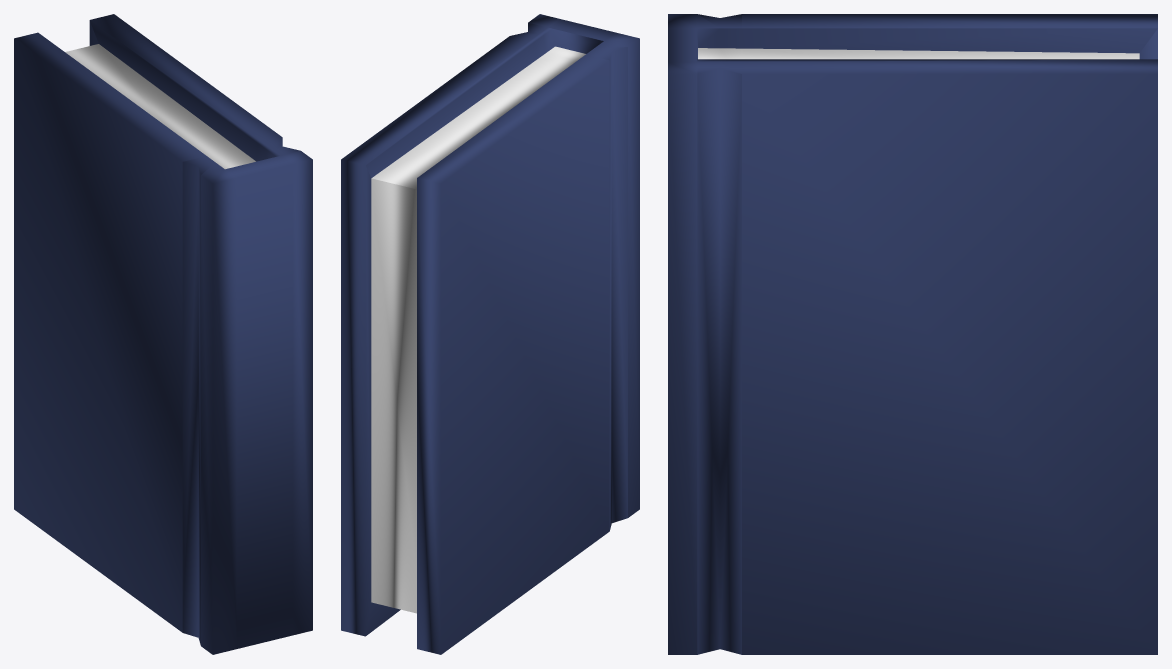
File: BlueBook.fbx
3 views of the same model, side by side, from view 1: azimuth 30°, elevation 25°; view 2: azimuth 150°, elevation 25°; view 3: azimuth 270°, elevation 25° (orthographic). The views are drawn at different scales.
Visible parts, largest first — view 1: Blue Book; view 2: Blue Book; view 3: Blue Book.
Part boxes in pixels (x1,y1,x2,y2): Blue Book: [14, 14, 312, 654]; Blue Book: [341, 14, 639, 654]; Blue Book: [668, 14, 1157, 654].
Bounding box in the file's own units: 23.49 × 106 × 80.88.
